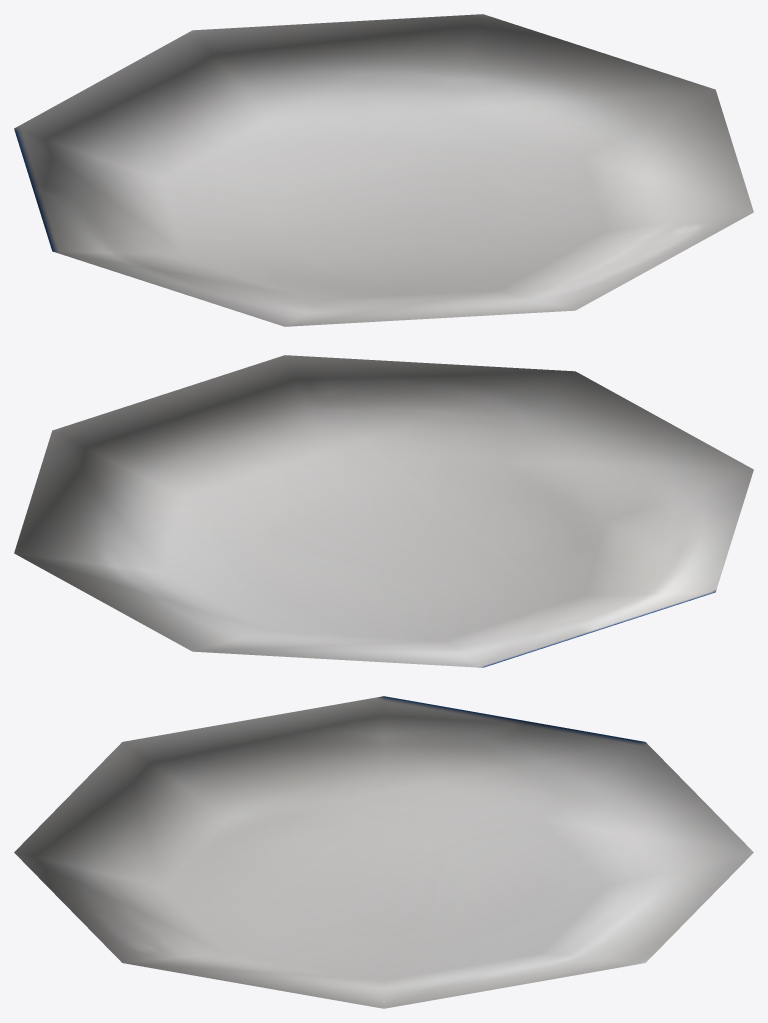
File: Plate_01-col.glb
The picture shows the model from 3 angles, top to bottom: view 1: azimuth 30°, elevation 25°; view 2: azimuth 150°, elevation 25°; view 3: azimuth 270°, elevation 25°; orthographic projection. The views are drawn at different scales.
Visible parts, largest first — view 1: Plate_01-col; view 2: Plate_01-col; view 3: Plate_01-col.
Boxes of the visible parts, <box> form: Plate_01-col: <box>14,14,753,326</box>; Plate_01-col: <box>14,355,753,667</box>; Plate_01-col: <box>14,696,753,1008</box>.
Bounding box in the file's own units: 0.3282 × 0.0229 × 0.3282.
1 material, 1 textured.
